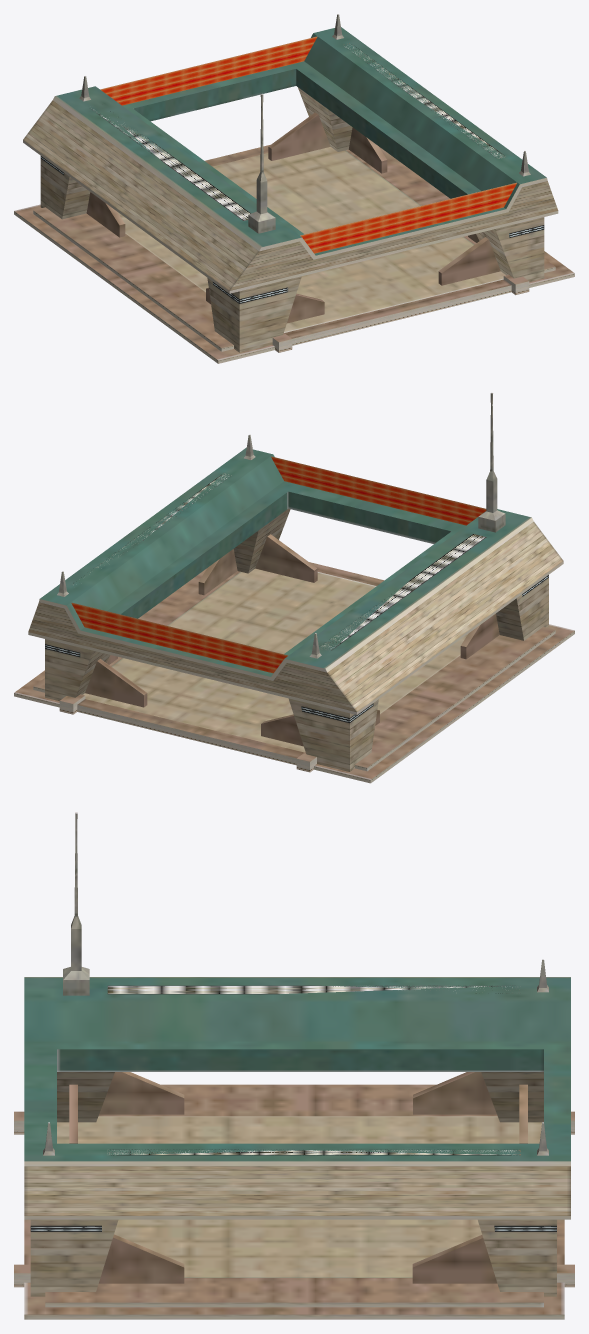
The model's file is mun_nboo_shuttleport_s01_l2.fbx.
3 renders of one model, top to bottom at view 1: azimuth 30°, elevation 25°; view 2: azimuth 150°, elevation 25°; view 3: azimuth 270°, elevation 25°, orthographic. The views are drawn at different scales.
Visible parts, largest first — view 1: mesh_node; view 2: mesh_node; view 3: mesh_node.
Part boxes in pixels (x1,y1,x2,y2): mesh_node: (14, 14, 574, 363); mesh_node: (14, 392, 574, 783); mesh_node: (14, 812, 574, 1319).
Bounding box in the file's own units: 31.47 × 20.21 × 32.4.
